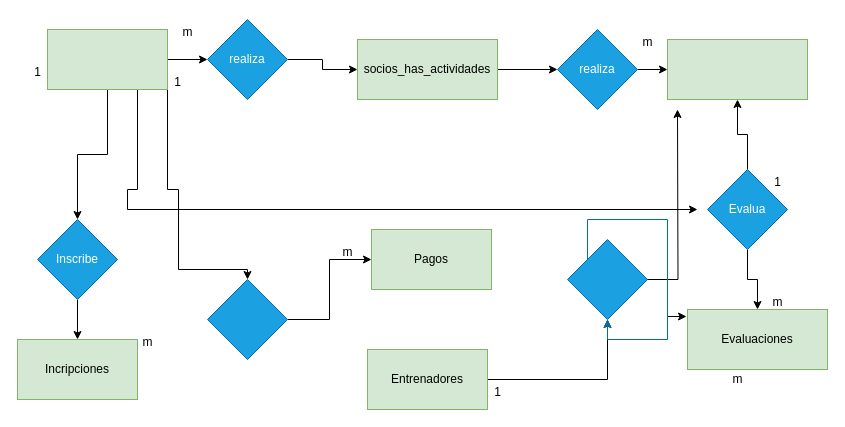
The diagram is 845 pixels wide and 427 high, and some of its shapes have lost their labels. Here are the shapes that lost their labels. From the top down, the box of each, then its label:
(46, 28, 168, 90): socios
(666, 38, 808, 100): actividades
(566, 238, 648, 320): Imparte
(206, 278, 288, 360): Paga
